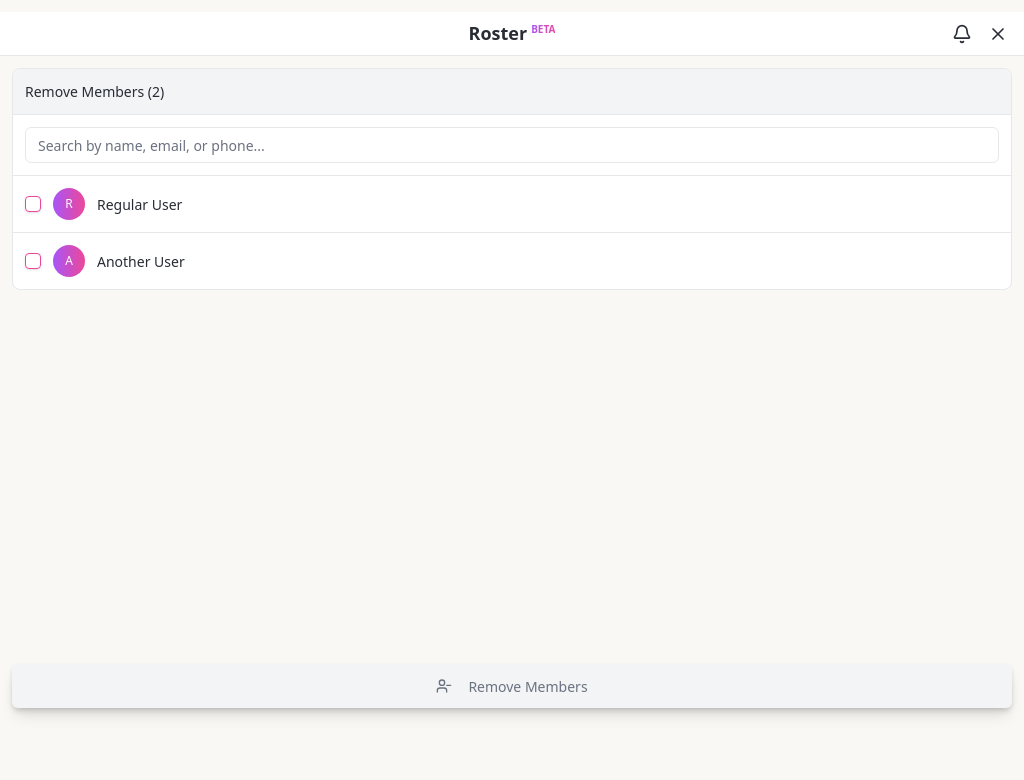
Test: RemoveMembersPage › authorized admin view › should filter members by search query
Expected: the text "Regular User" is shown, [97,194,182,214]
Type "Another" into the search field with placeholder "Search by name, email, or phone...".
click(512, 145); type("Another")  # box [25,127,999,163]
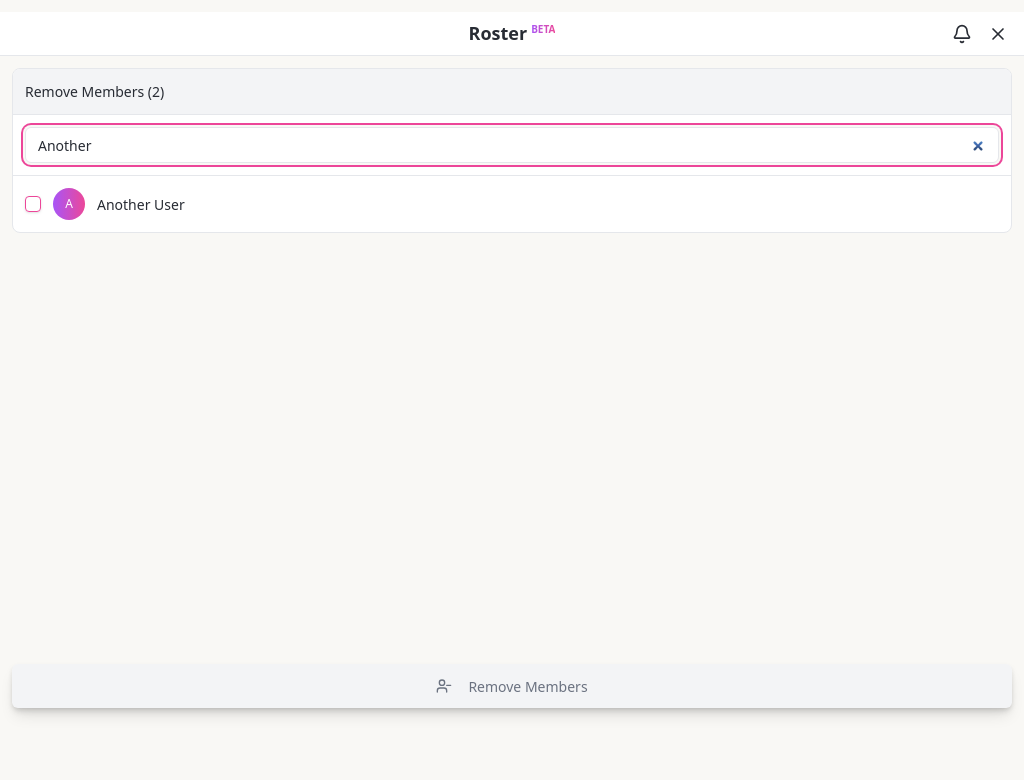
Expected: the text "Another User" is shown, [97,194,185,214]
Now the text "Regular User" is gone
